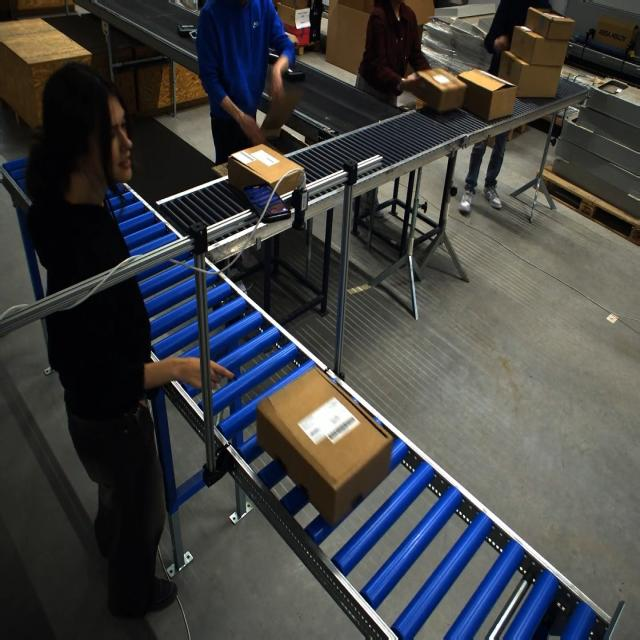box: (258, 368, 381, 519), (227, 143, 304, 198), (509, 43, 574, 103), (456, 68, 519, 121), (411, 67, 464, 114), (524, 34, 569, 66), (508, 25, 543, 63)
product: (283, 68, 305, 81), (177, 24, 195, 35), (189, 30, 198, 40)
